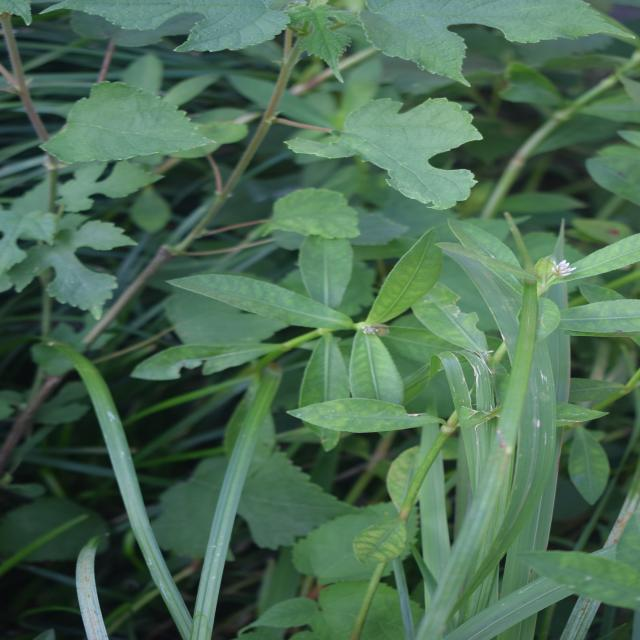Alligatorweed: (213, 158, 422, 484)
